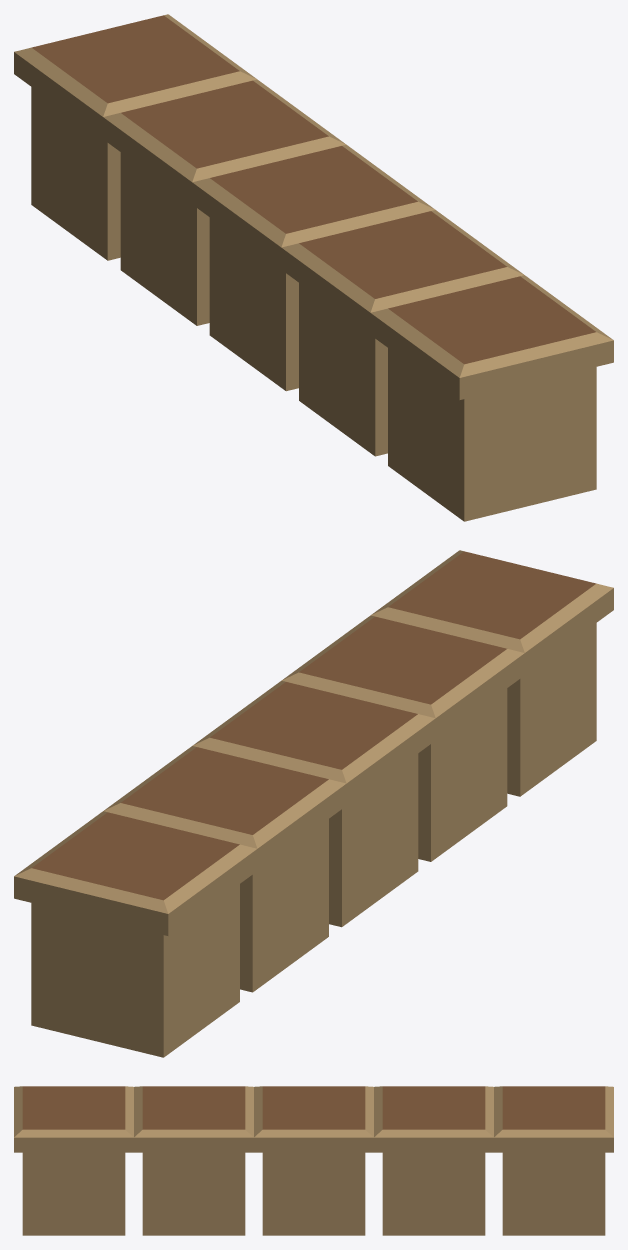
File: Recipe Bench.fbx
3 views of the same model, one above another, from view 1: azimuth 30°, elevation 25°; view 2: azimuth 150°, elevation 25°; view 3: azimuth 270°, elevation 25° (orthographic). The views are drawn at different scales.
Visible parts, largest first — view 1: Cube.003; view 2: Cube.003; view 3: Cube.003.
Boxes of the visible parts, <box> form: Cube.003: <box>14,14,613,521</box>; Cube.003: <box>14,550,613,1057</box>; Cube.003: <box>14,1086,613,1235</box>.
Size of the model in its own units: 234 by 227 by 1168.
